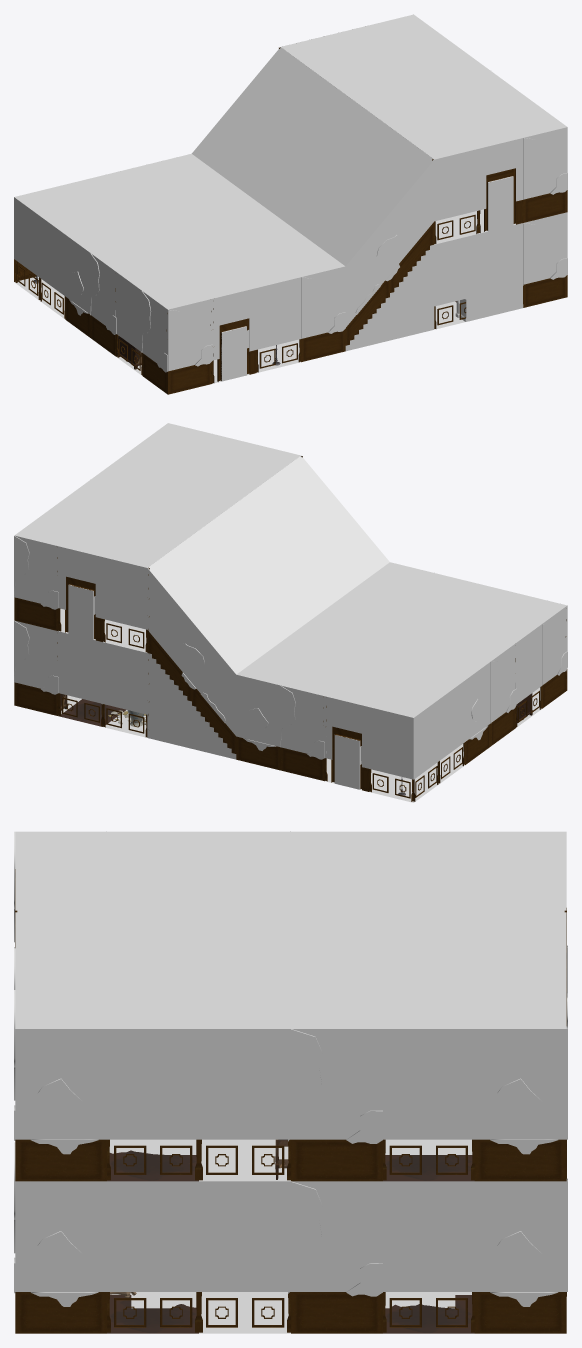
File: Roulette_room.fbx
3 renders of one model, top to bottom at view 1: azimuth 30°, elevation 25°; view 2: azimuth 150°, elevation 25°; view 3: azimuth 270°, elevation 25°, orthographic. The views are drawn at different scales.
Visible parts, largest first — view 1: Plane.008, Plane.045, Plane.113, Plane.193, Plane.201, Plane.128, Plane.030, Plane.204, Plane.044, Plane.168, Plane.166, Plane.170 (+66 smaller); view 2: Plane.008, Plane.031, Plane.053, Plane.115, Plane.120, Plane.205, Plane.200, Plane.198, Plane.050, Plane.165, Plane.168, Plane.170 (+67 smaller); view 3: Plane.051, Plane.028, Plane.046, Plane.049, Plane.195, Plane.197, Plane.048, Plane.023, Plane.024, Plane.033, Plane.047, Plane.054 (+40 smaller).
Part boxes in pixels (x1,y1,x2,y2): Plane.008: (345, 162, 434, 351); Plane.045: (523, 212, 567, 307); Plane.113: (301, 266, 345, 362); Plane.193: (523, 127, 567, 222); Plane.201: (168, 299, 212, 394); Plane.128: (256, 279, 300, 368); Plane.030: (434, 151, 478, 240); Plane.204: (479, 225, 523, 295); Plane.044: (434, 234, 478, 325); Plane.168: (362, 141, 434, 216); Plane.166: (337, 122, 408, 196); Plane.170: (260, 66, 331, 139); Plane.008: (147, 568, 236, 759); Plane.031: (14, 535, 58, 631); Plane.053: (14, 620, 58, 716); Plane.115: (280, 685, 324, 781); Plane.120: (236, 675, 280, 770); Plane.205: (58, 631, 102, 722); Plane.200: (369, 707, 413, 798); Plane.198: (103, 557, 147, 648); Plane.050: (103, 642, 147, 733); Plane.165: (224, 493, 295, 566); Plane.168: (275, 456, 346, 529); Plane.170: (173, 530, 244, 604); Plane.051: (474, 1181, 566, 1333); Plane.028: (474, 1029, 566, 1181); Plane.046: (15, 1181, 106, 1333); Plane.049: (291, 1181, 382, 1333); Plane.195: (15, 1029, 106, 1181); Plane.197: (291, 1029, 382, 1181); Plane.048: (199, 1181, 290, 1327); Plane.023: (107, 1029, 198, 1174); Plane.024: (199, 1029, 290, 1174); Plane.033: (383, 1029, 474, 1174); Plane.047: (107, 1181, 198, 1327); Plane.054: (383, 1181, 474, 1327).
Bounding box in the file's own units: 1805 × 733 × 1205.
